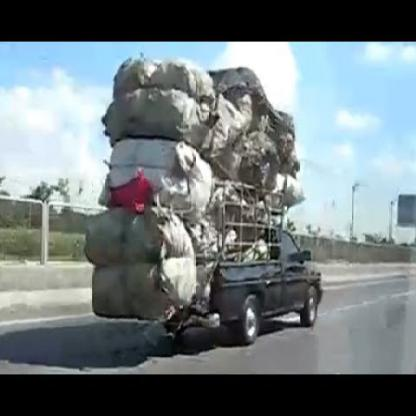overloaded-truck: (95, 51, 312, 324)
